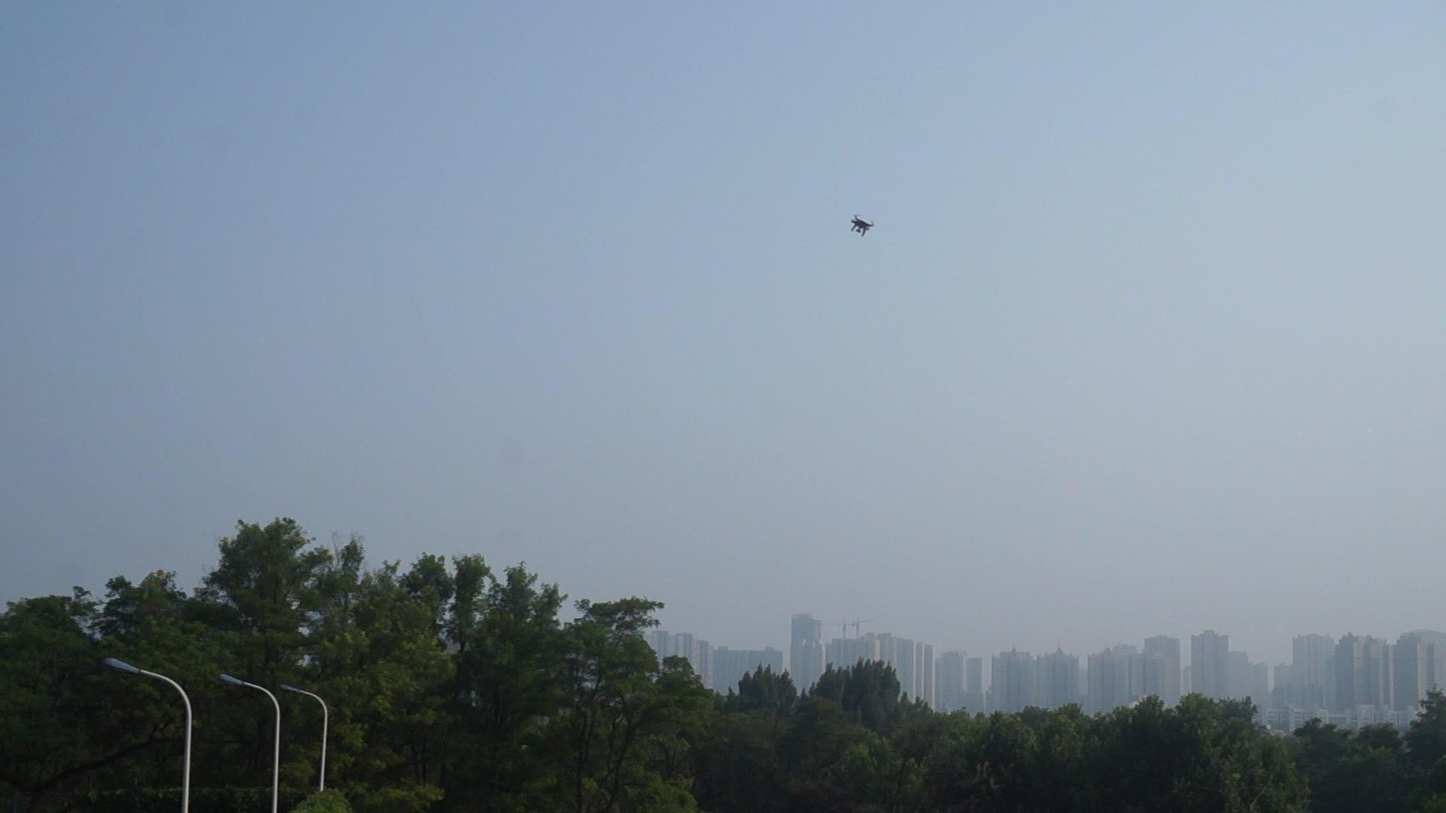UAV: (851, 215, 875, 238)
